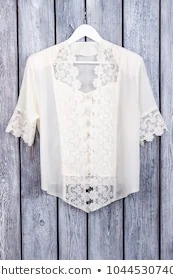S_blouse: (3, 28, 166, 218)
